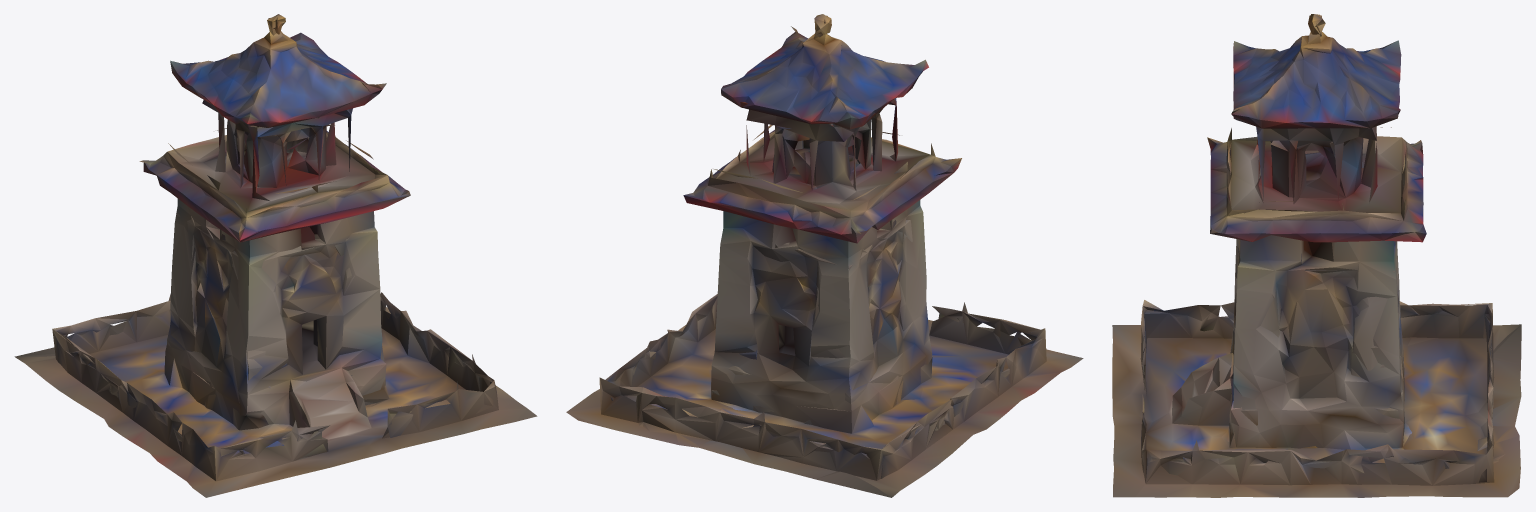
Rendered from bq_sword_tower.vc.glb.
3 renders of one model, left to right at view 1: azimuth 30°, elevation 25°; view 2: azimuth 150°, elevation 25°; view 3: azimuth 270°, elevation 25°, orthographic. The views are drawn at different scales.
Visible parts, largest first — view 1: bq_sword_tower; view 2: bq_sword_tower; view 3: bq_sword_tower.
Part boxes in pixels (box(x1,y1,x2,y2)): bq_sword_tower: box(14, 14, 537, 497); bq_sword_tower: box(566, 14, 1083, 497); bq_sword_tower: box(1112, 14, 1521, 497).
Bounding box in the file's own units: 1.73 × 1.86 × 1.73.
